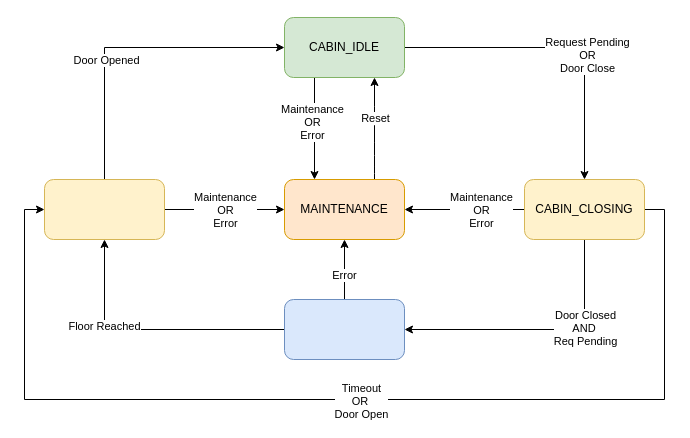
The diagram is 690 pixels wide and 438 high, and some of its shapes have lost their labels. The centre of each missing label's shape, as x and y in pixels:
"CABIN_MOVING" goes at [344,329].
"CABIN_OPENING" goes at [104,209].
